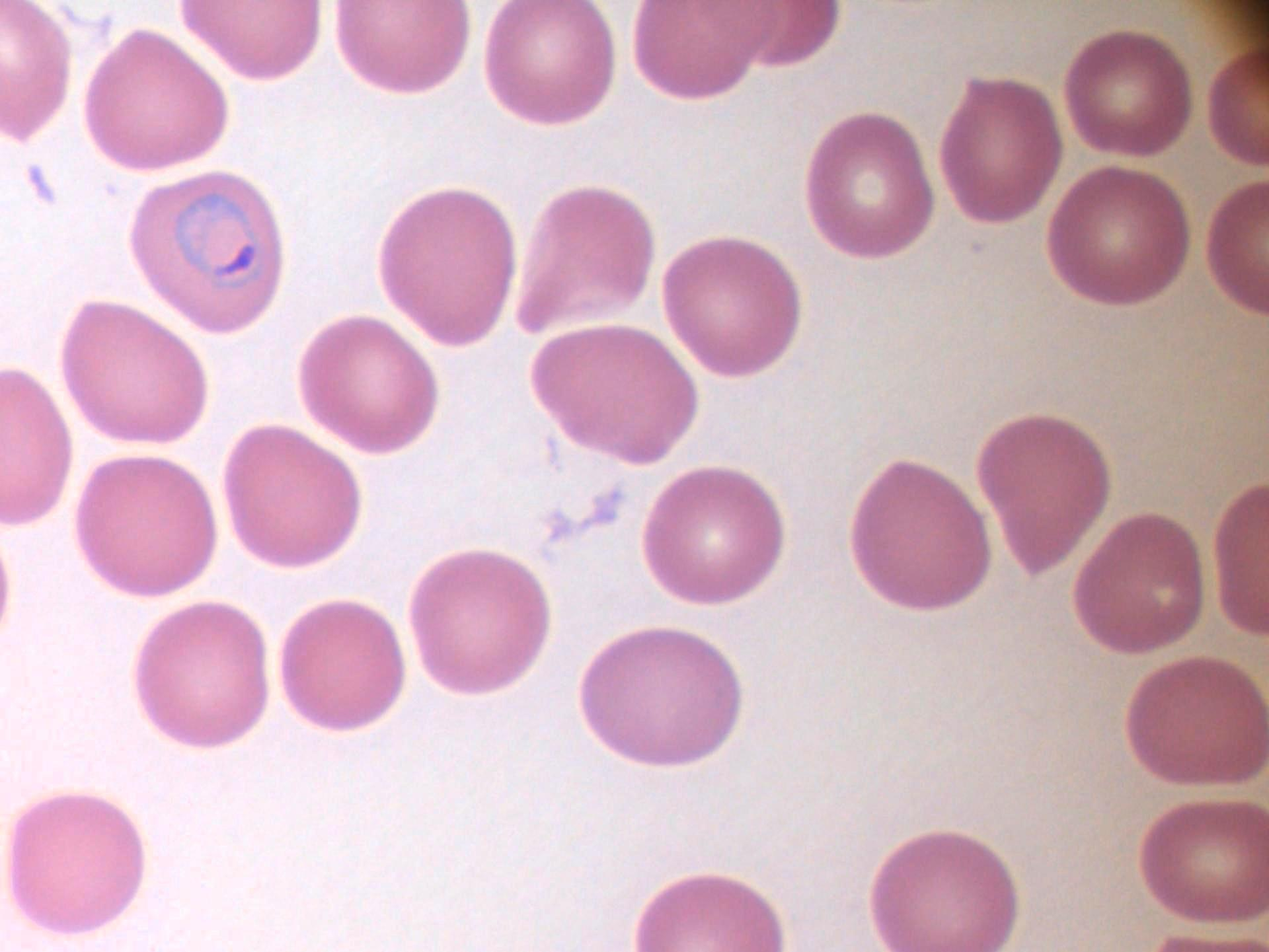Infected: (987, 620, 1135, 779)
Uninfected: (574, 486, 736, 626), (531, 188, 686, 323), (159, 377, 292, 534), (754, 607, 888, 761), (613, 614, 750, 761), (280, 342, 418, 486), (1063, 510, 1204, 649), (81, 646, 219, 785), (1043, 782, 1180, 922), (1054, 357, 1191, 494), (720, 260, 858, 396), (470, 576, 605, 713), (485, 349, 621, 482), (910, 385, 1042, 522), (833, 499, 968, 632), (1126, 17, 1256, 155), (336, 696, 463, 837), (3, 165, 142, 293), (1003, 206, 1130, 344), (208, 730, 329, 872), (67, 299, 195, 433), (253, 1, 395, 116), (865, 221, 989, 348), (655, 830, 783, 952), (1, 26, 128, 147), (486, 851, 633, 952), (79, 797, 203, 915), (799, 858, 931, 952), (950, 873, 1083, 950)
